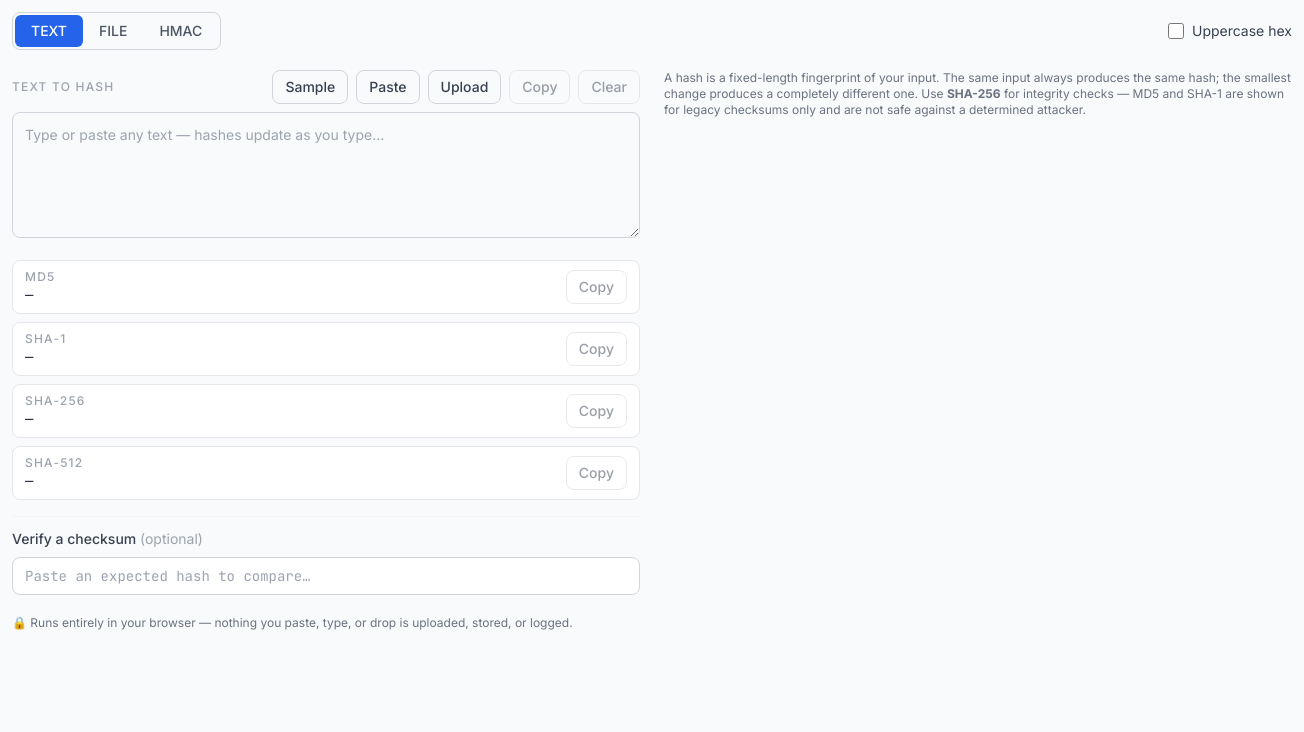
Scenario: HashGenerator › computes an HMAC in HMAC mode
Click the tab "hmac". click: (181,31)
box: [143, 15, 218, 47]
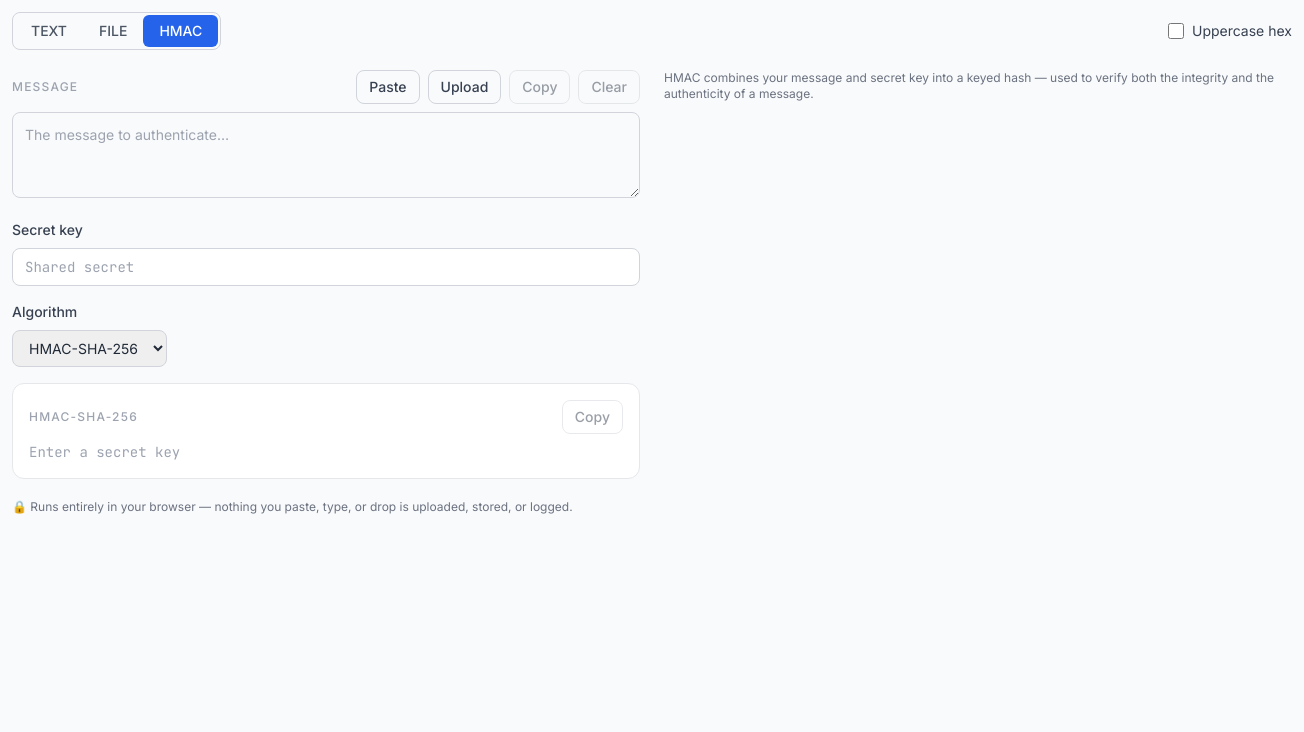
Type "The quick brown fox jumps over the lazy dog" into the text box named "HMAC message". click: (326,155)
box: [12, 112, 640, 198]
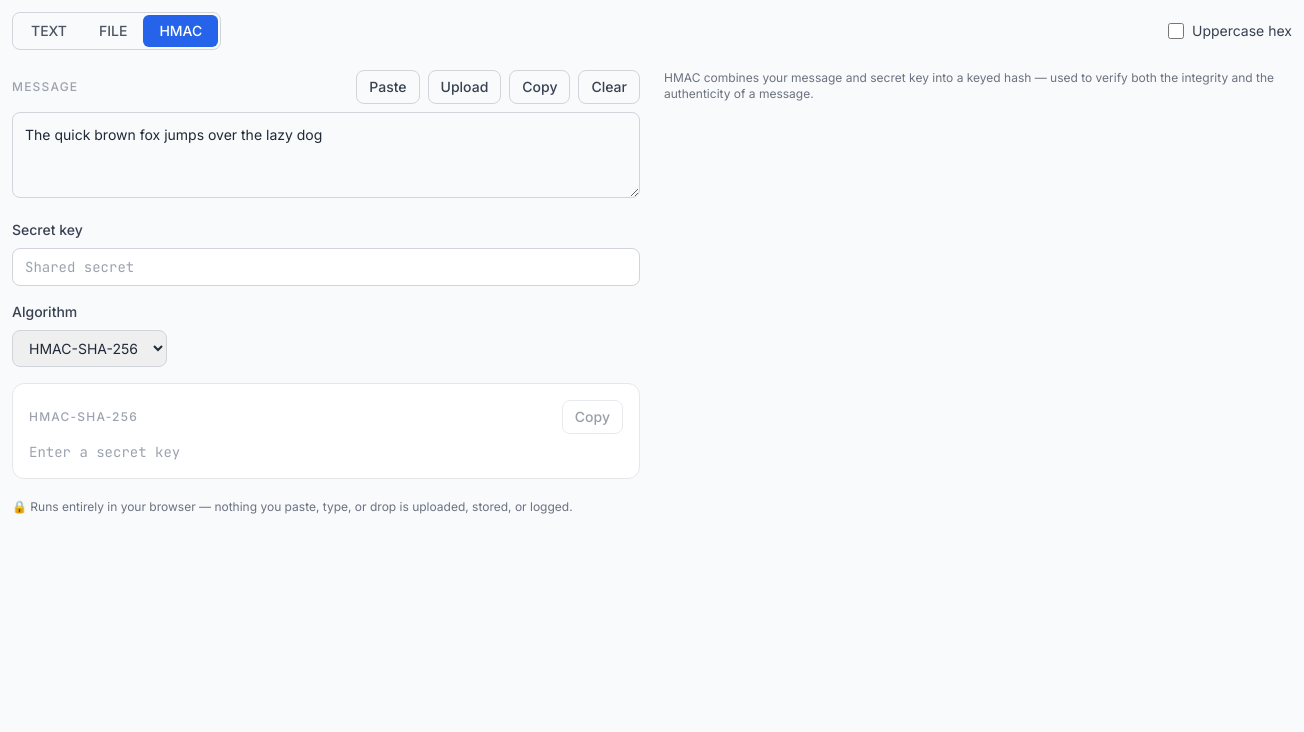
Type "key" into the field labelled "Secret key". click: (326,267)
box: [12, 248, 640, 286]
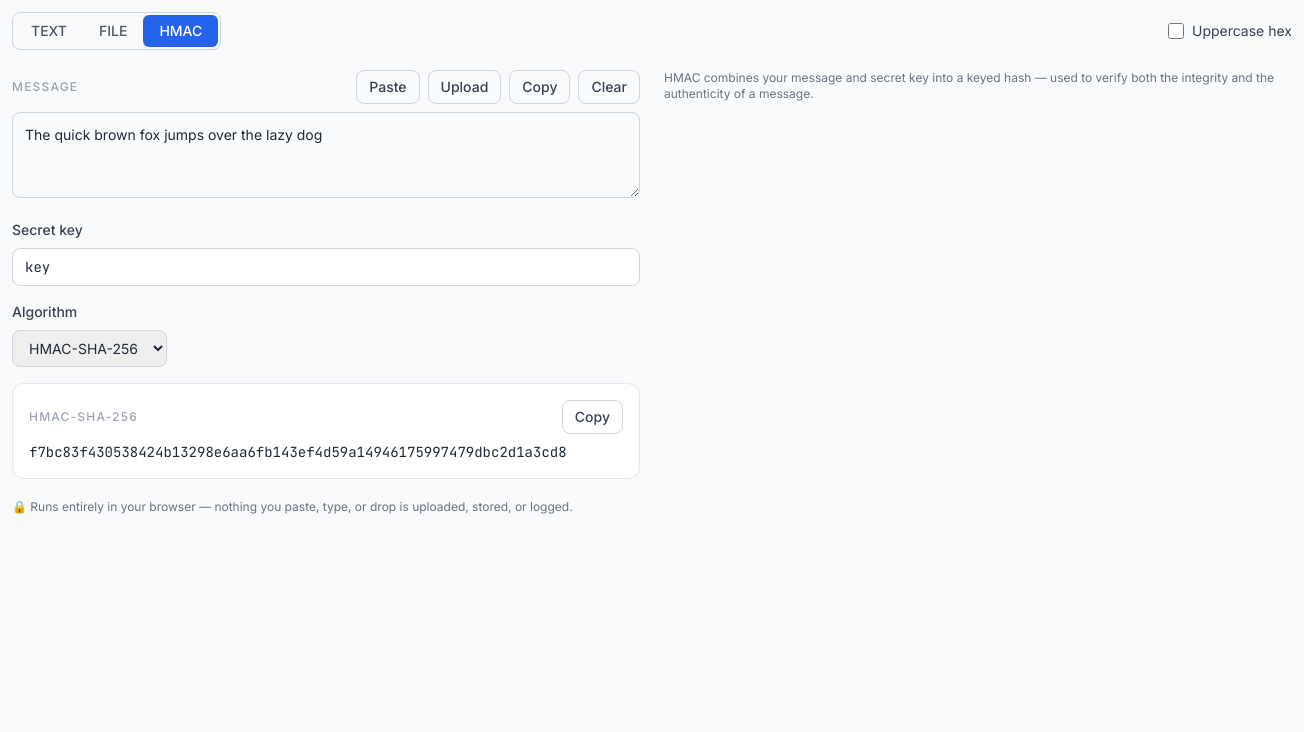
Check: the text "f7bc83f430538424b13298e6aa6fb143ef4d59a14946175997479dbc2d1a3cd8" is shown, box [29, 442, 623, 462]
